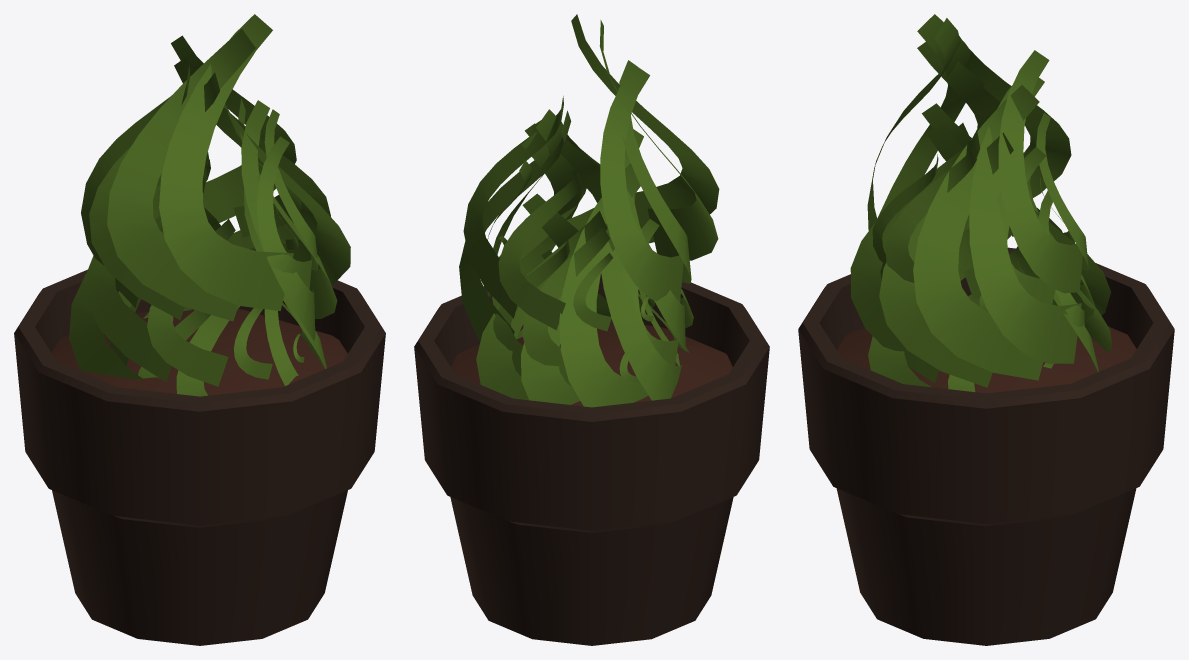
File: plant_big_02.glb
3 renders of one model, left to right at view 1: azimuth 30°, elevation 25°; view 2: azimuth 150°, elevation 25°; view 3: azimuth 270°, elevation 25°, orthographic. The views are drawn at different scales.
Visible parts, largest first — view 1: plant_big.02; view 2: plant_big.02; view 3: plant_big.02.
Boxes of the visible parts, x1,y1,x2,y2 form: plant_big.02: [14, 14, 385, 645]; plant_big.02: [414, 14, 769, 645]; plant_big.02: [798, 14, 1174, 645].
Bounding box in the file's own units: 0.5746 × 0.9972 × 0.5746.
